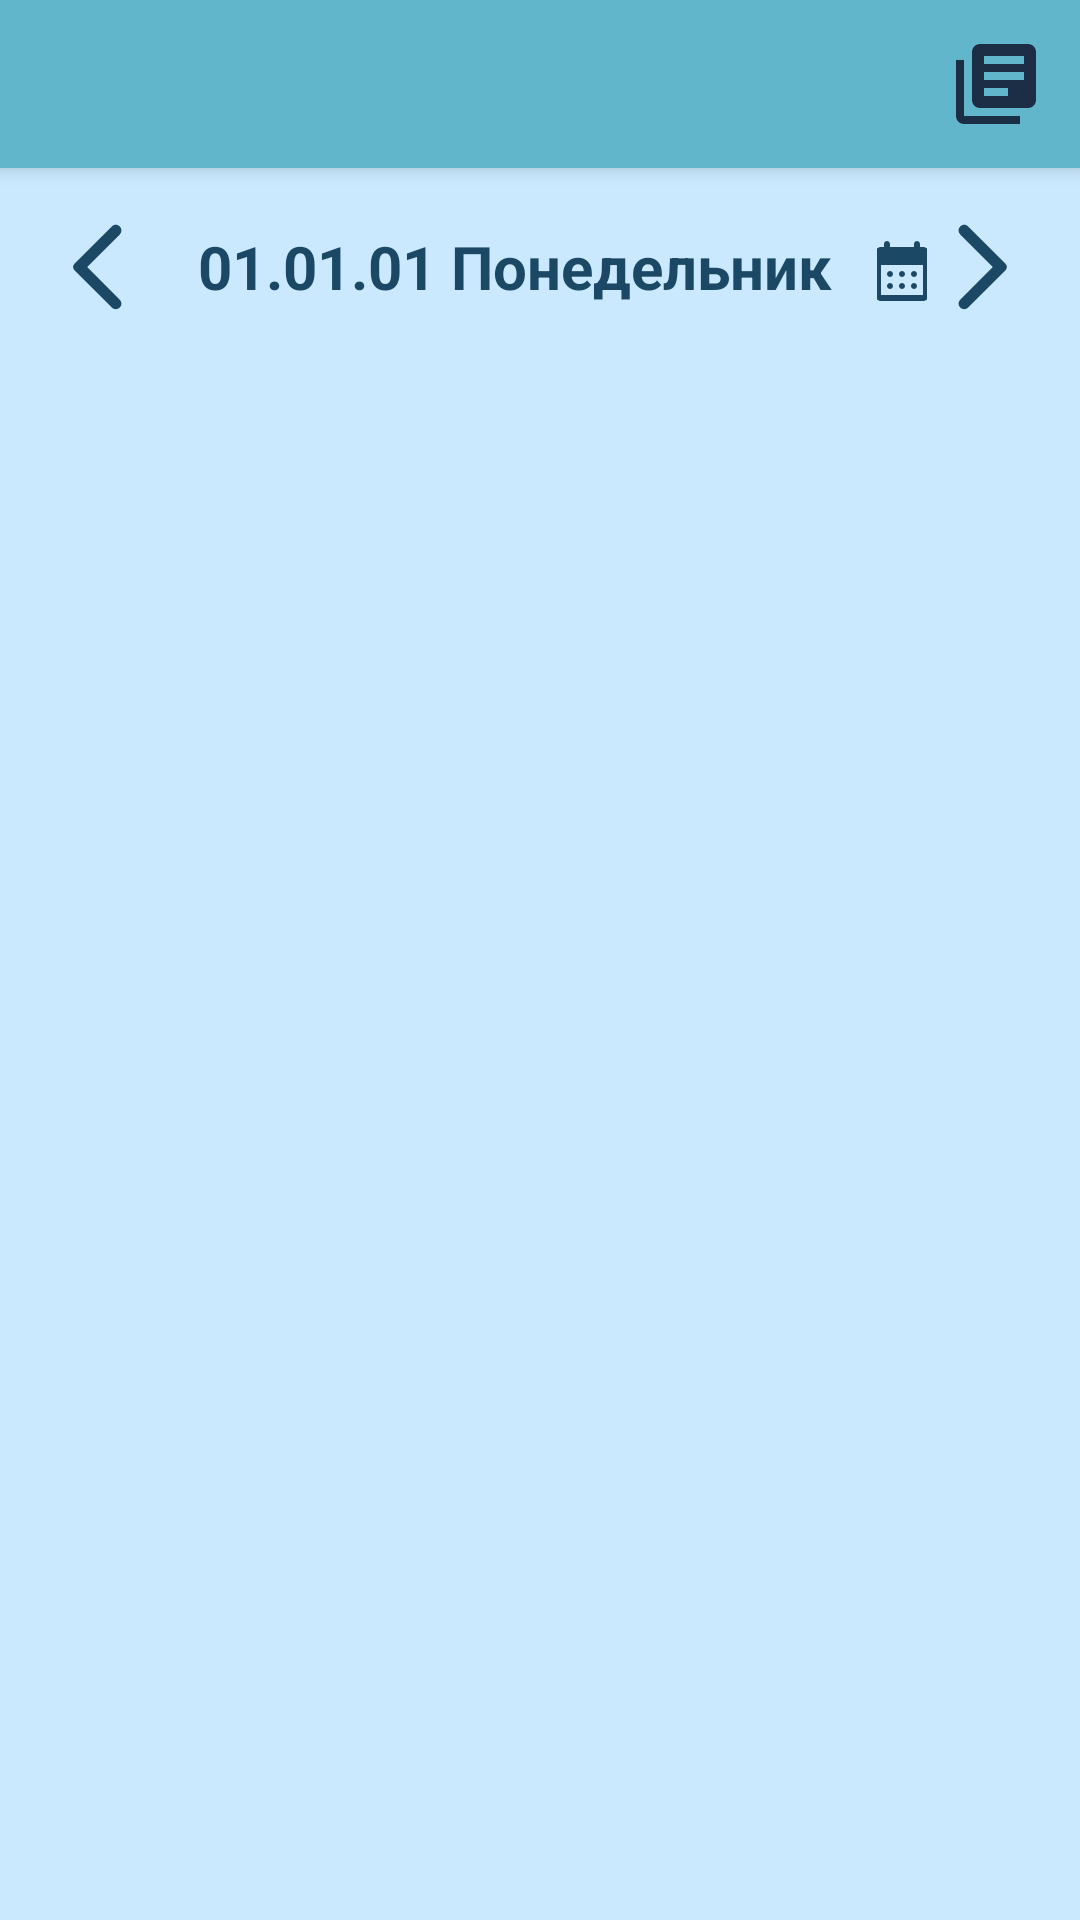

Locate icon controls on the screen. Image size 1080 × 1920, boxes as (x1, y1, x2, y2).
calendaar: (877, 241, 927, 301)
left: (73, 224, 122, 310)
right: (958, 224, 1007, 310)
